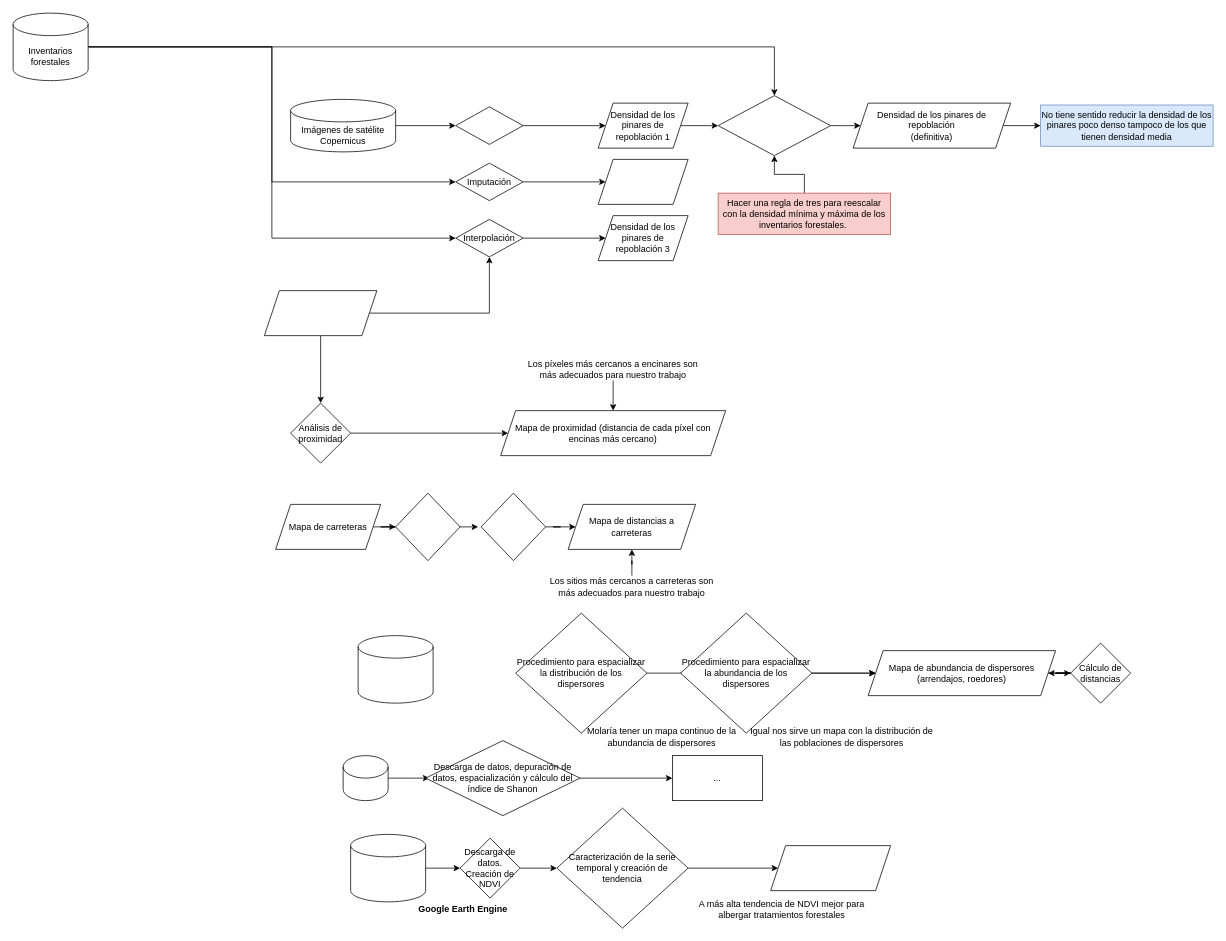
The diagram is 1226 pixels wide and 941 high, and some of its shapes have lost their labels. Here are the shapes that lost their labels. From the top down, the centre of each, then its label:
At pixel 489 125: "Teledetección".
At pixel 774 125: "Cambio de unidades (% a pies/ha)".
At pixel 642 181: "Densidad de los pinares de repoblación 2".
At pixel 320 313: "Mapa de vegetación".
At pixel 427 526: "Convertir a ráster".
At pixel 513 526: "Calcular distancias".
At pixel 395 669: "Atlas de fauna".
At pixel 365 778: "GBIF".
At pixel 388 868: "Landsat o Sentinel".
At pixel 830 868: "Tendencia de la productividad primaria".
